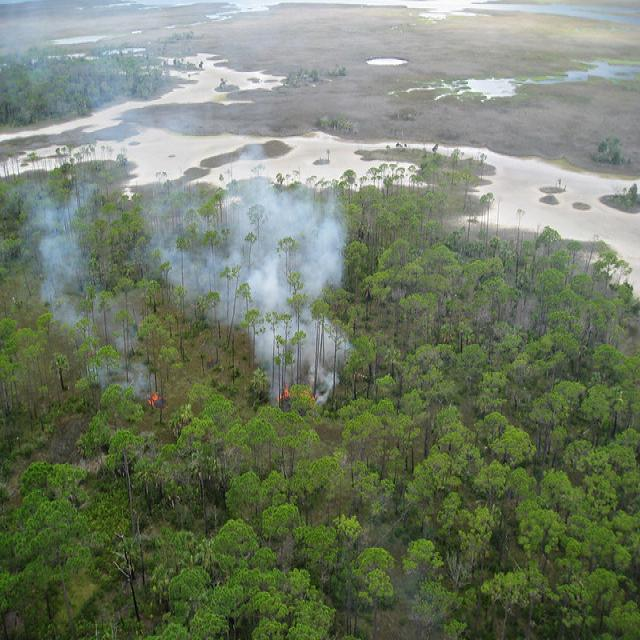Fire: (277, 382, 314, 410), (146, 394, 170, 412)
Smoke: (212, 156, 354, 378), (21, 175, 154, 390), (156, 174, 210, 318), (315, 376, 337, 408)
